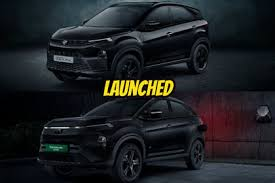Tata Nexon: (37, 96, 206, 183)
